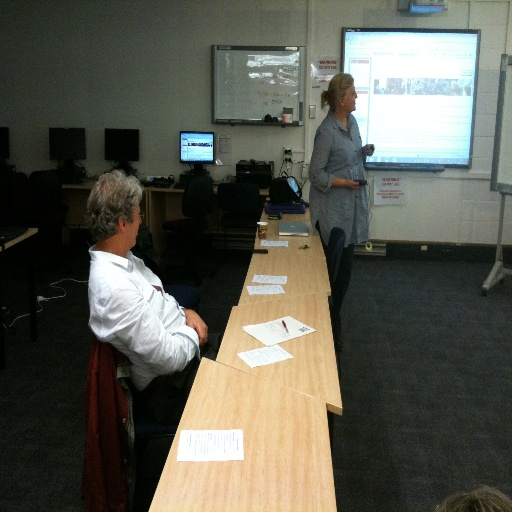hand: (175, 300, 212, 364), (345, 179, 364, 192), (362, 141, 375, 157)
